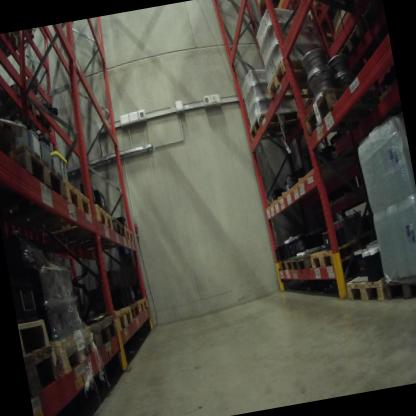pallet: (301, 78, 381, 145), (14, 175, 95, 239), (8, 134, 68, 212), (306, 225, 382, 275), (262, 51, 328, 104), (44, 198, 116, 246), (50, 324, 99, 381), (22, 339, 65, 400), (340, 264, 391, 312), (246, 104, 307, 143), (64, 215, 128, 251), (17, 309, 56, 361), (75, 315, 121, 357), (0, 90, 25, 163), (380, 265, 416, 306), (328, 25, 365, 64), (288, 245, 329, 276), (101, 305, 135, 340), (348, 0, 385, 31), (298, 0, 372, 13), (0, 31, 23, 63), (123, 299, 143, 326), (278, 253, 295, 270), (135, 296, 151, 314), (124, 227, 137, 242)
